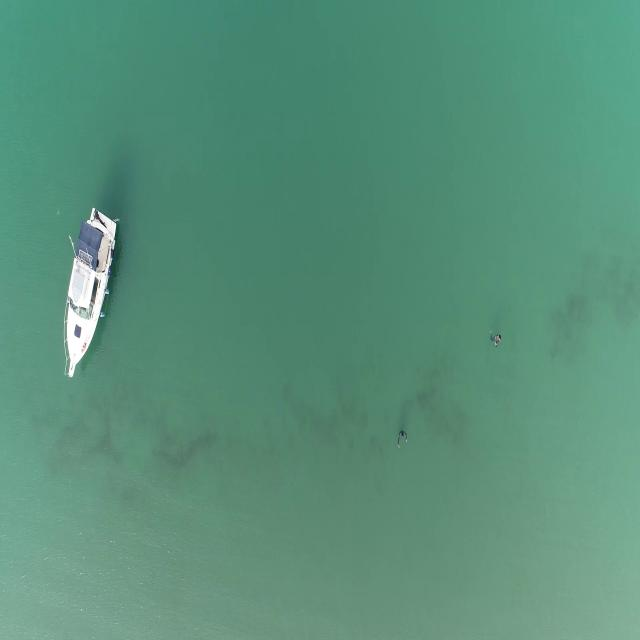boat: (59, 207, 120, 381)
person: (396, 429, 409, 452), (490, 329, 501, 352)
